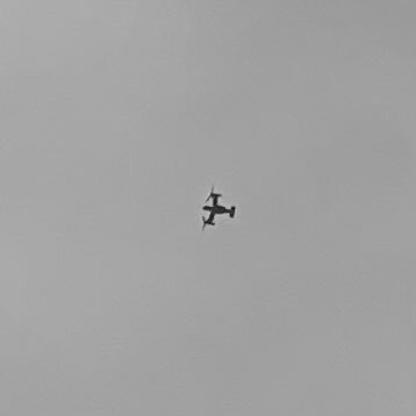V22: (201, 184, 238, 234)
